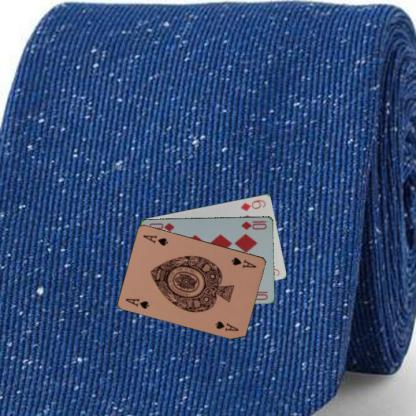10d: (239, 219, 268, 231)
6d: (238, 197, 267, 212)
As: (228, 254, 258, 269), (123, 296, 151, 310)
